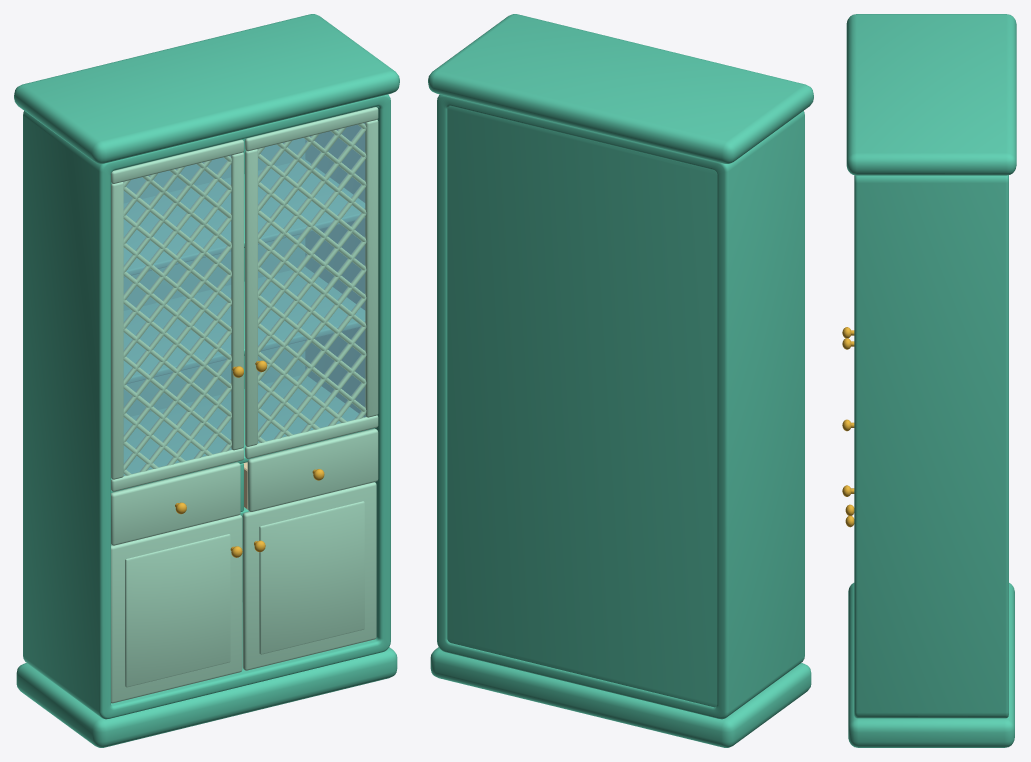
File: cristaleira_verde_agua.glb
3 renders of one model, left to right at view 1: azimuth 30°, elevation 25°; view 2: azimuth 150°, elevation 25°; view 3: azimuth 270°, elevation 25°, orthographic. The views are drawn at different scales.
Parts seen in each view (by area): view 1: cristaleira_verde_agua, porta_2, porta_1, porta_4, porta_3, gaveta_2, gaveta_1; view 2: cristaleira_verde_agua; view 3: cristaleira_verde_agua.
Boxes of the visible parts, box(x1,y1,x2,y2) form: cristaleira_verde_agua: box(14, 14, 399, 747); porta_2: box(245, 107, 378, 458); porta_1: box(111, 139, 243, 491); porta_4: box(242, 482, 376, 670); porta_3: box(111, 515, 242, 703); gaveta_2: box(243, 428, 378, 511); gaveta_1: box(111, 462, 240, 545); cristaleira_verde_agua: box(428, 14, 813, 747); cristaleira_verde_agua: box(846, 14, 1016, 747).
Size of the model in its own units: 1.01 by 1.91 by 0.5071.
Materials: 2 (1 with a texture image).
